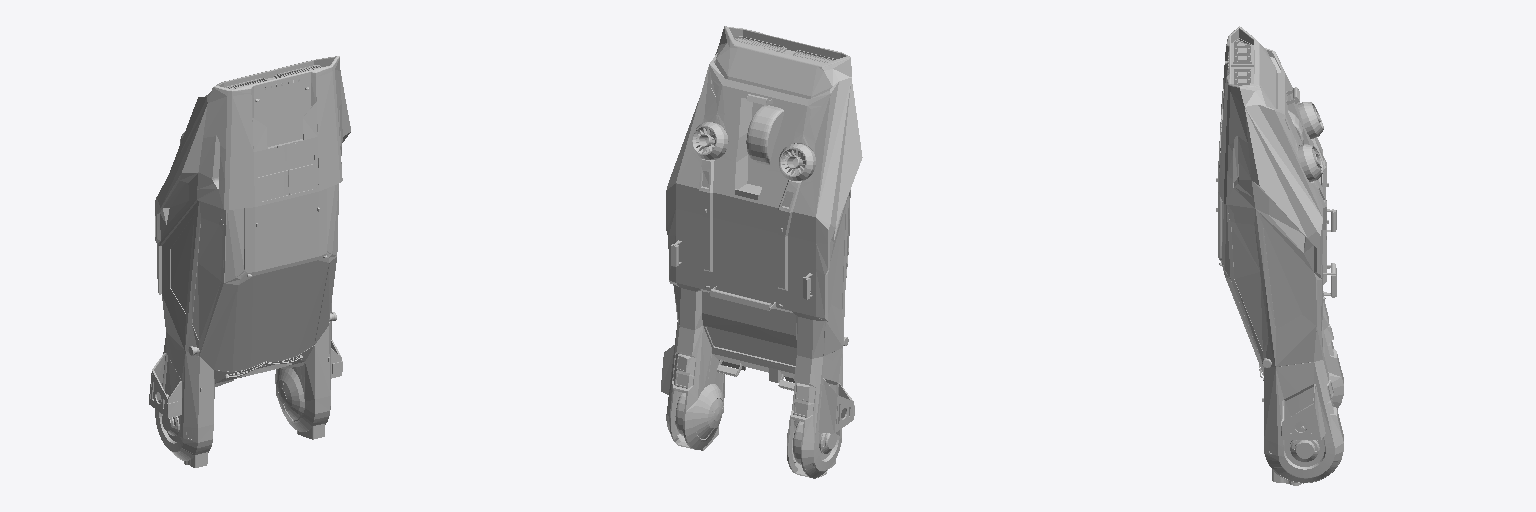
Rendered from zimCreateArchive_2049OBJ.obj.
3 renders of one model, left to right at view 1: azimuth 30°, elevation 25°; view 2: azimuth 150°, elevation 25°; view 3: azimuth 270°, elevation 25°, orthographic.
Visible parts, largest first — view 1: 3DGeom~1, 3DGeom~5, 3DGeom~19, 3DGeom~21, wheelcocer_01; view 2: 3DGeom~1, rearwheel, 3DGeom~5, 3DGeom~19, wheelcocer_01, ReaThruster_01, ReaThruster, 3DGeom~21, frontthruster, frontthruster_01, 3DGeom~13; view 3: 3DGeom~1, 3DGeom~6, 3DGeom~8, wheelcocer, 3DGeom~13, ReaThruster, ReaThruster_01, hub.
Boxes of the visible parts, x1,y1,x2,y2 form: 3DGeom~1: [155, 56, 350, 467]; 3DGeom~5: [214, 260, 328, 371]; 3DGeom~19: [162, 201, 226, 356]; 3DGeom~21: [171, 216, 222, 340]; wheelcocer_01: [149, 353, 181, 417]; 3DGeom~1: [666, 26, 862, 478]; rearwheel: [746, 105, 783, 164]; 3DGeom~5: [707, 328, 796, 365]; 3DGeom~19: [823, 190, 850, 355]; wheelcocer_01: [818, 378, 854, 433]; ReaThruster_01: [779, 143, 815, 180]; ReaThruster: [692, 122, 727, 159]; 3DGeom~21: [831, 207, 848, 309]; frontthruster: [673, 353, 695, 388]; frontthruster_01: [793, 382, 815, 417]; 3DGeom~13: [734, 37, 835, 62]; 3DGeom~1: [1218, 26, 1343, 485]; 3DGeom~6: [1227, 205, 1316, 367]; 3DGeom~8: [1232, 223, 1302, 349]; wheelcocer: [1281, 384, 1325, 439]; 3DGeom~13: [1231, 39, 1253, 85]; ReaThruster: [1298, 144, 1323, 181]; ReaThruster_01: [1298, 102, 1323, 138]; hub: [1290, 426, 1319, 462].
Size of the model in its own units: 0.4134 by 0.9002 by 0.2612.